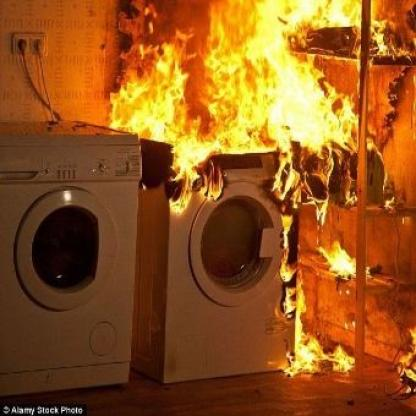fire: (111, 0, 412, 379)
